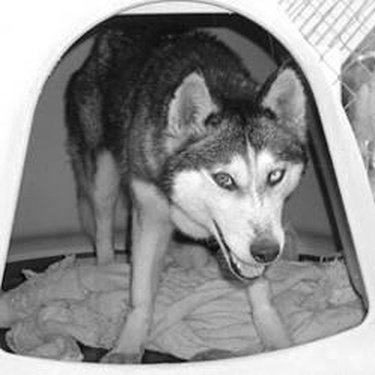dog: (56, 7, 311, 365), (338, 29, 372, 198)
